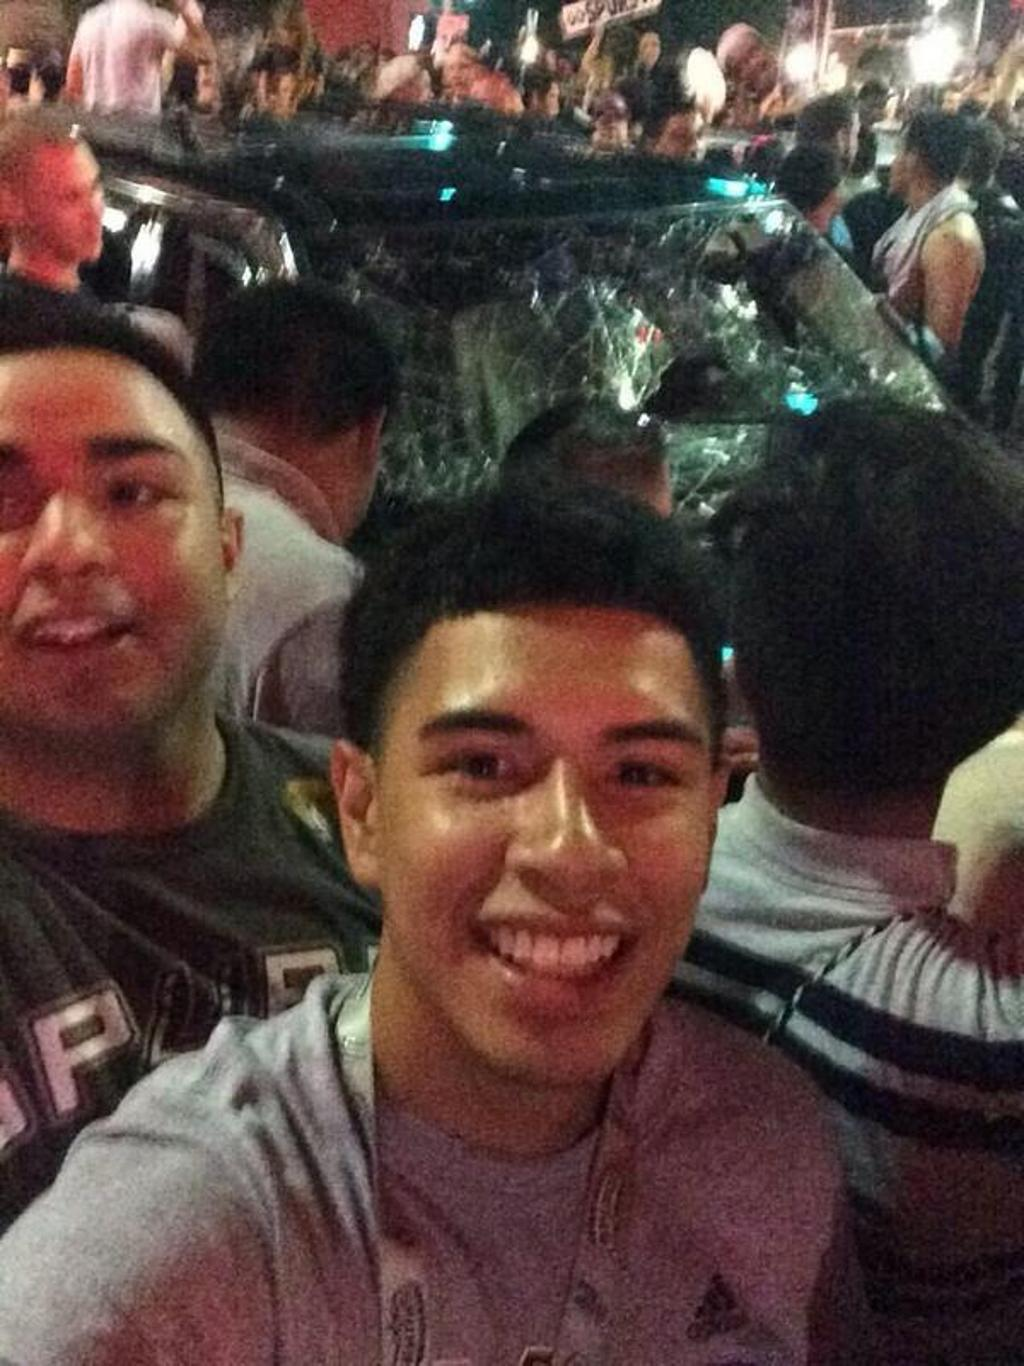face: (381, 629, 712, 1077), (11, 360, 214, 747), (16, 136, 107, 261)
